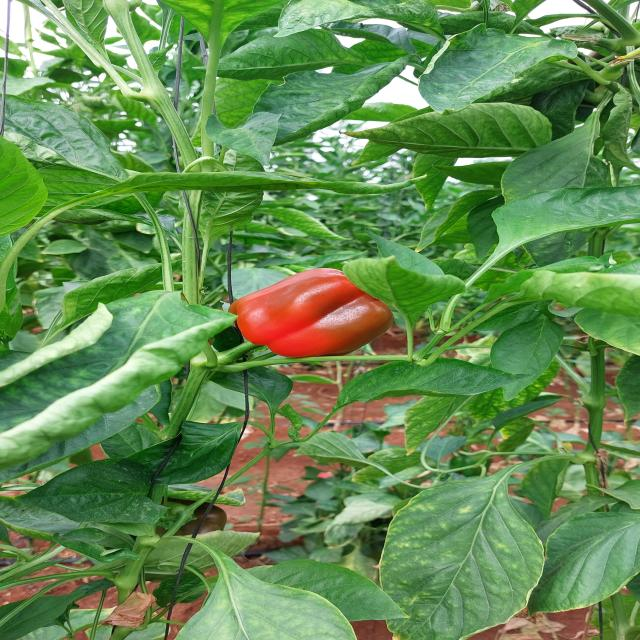Red-Ready-to-Harvest: (216, 267, 425, 360)
